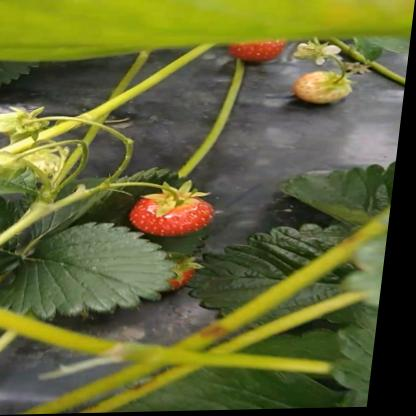ripe: (116, 186, 236, 238), (231, 42, 290, 66)
unripe: (295, 72, 361, 106)
